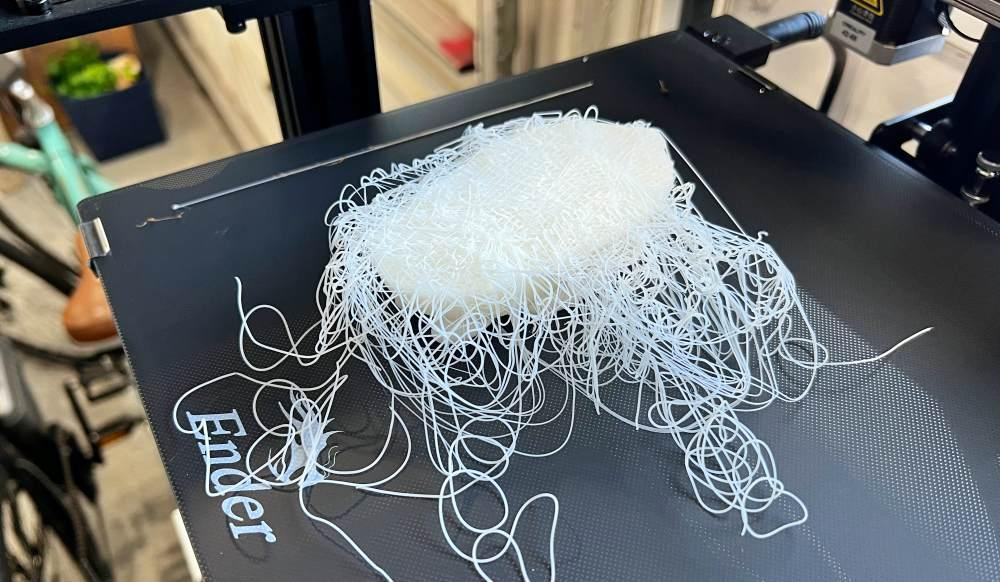Spaghetti: (173, 243, 822, 524), (314, 92, 783, 266)
